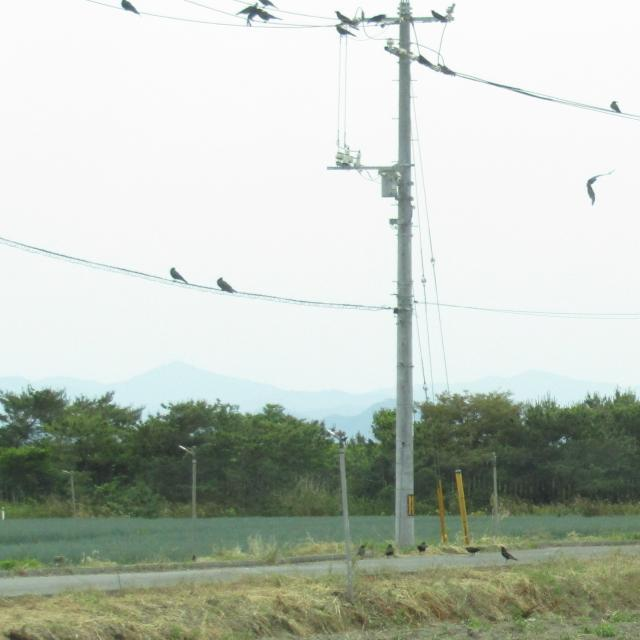pole: (335, 1, 463, 558)
